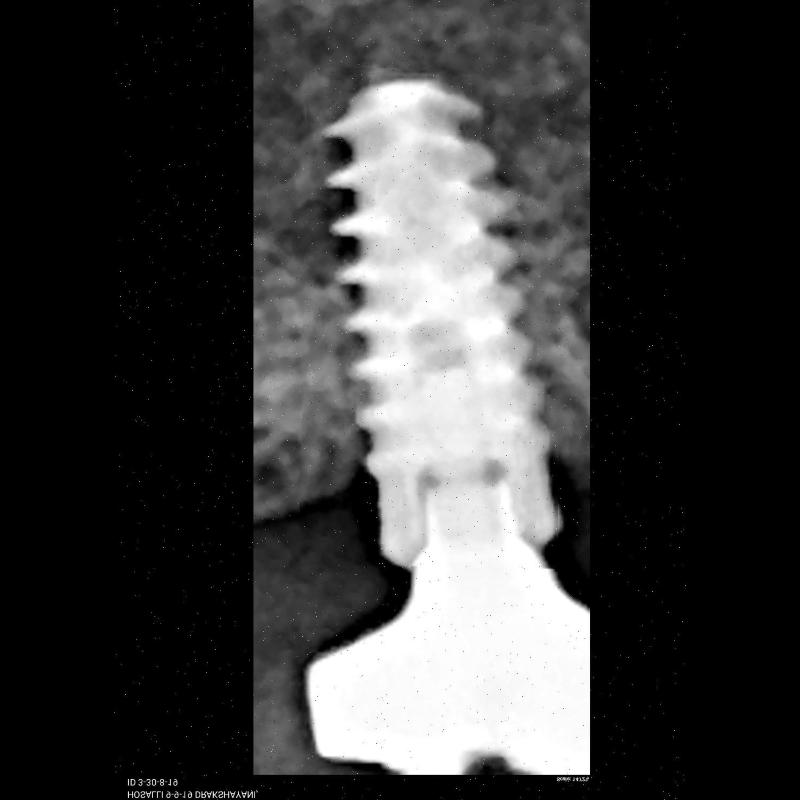NORIS: (301, 68, 563, 568)
